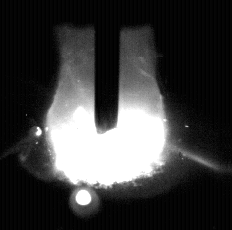arame: (95, 0, 120, 133)
poca: (45, 0, 168, 230)
